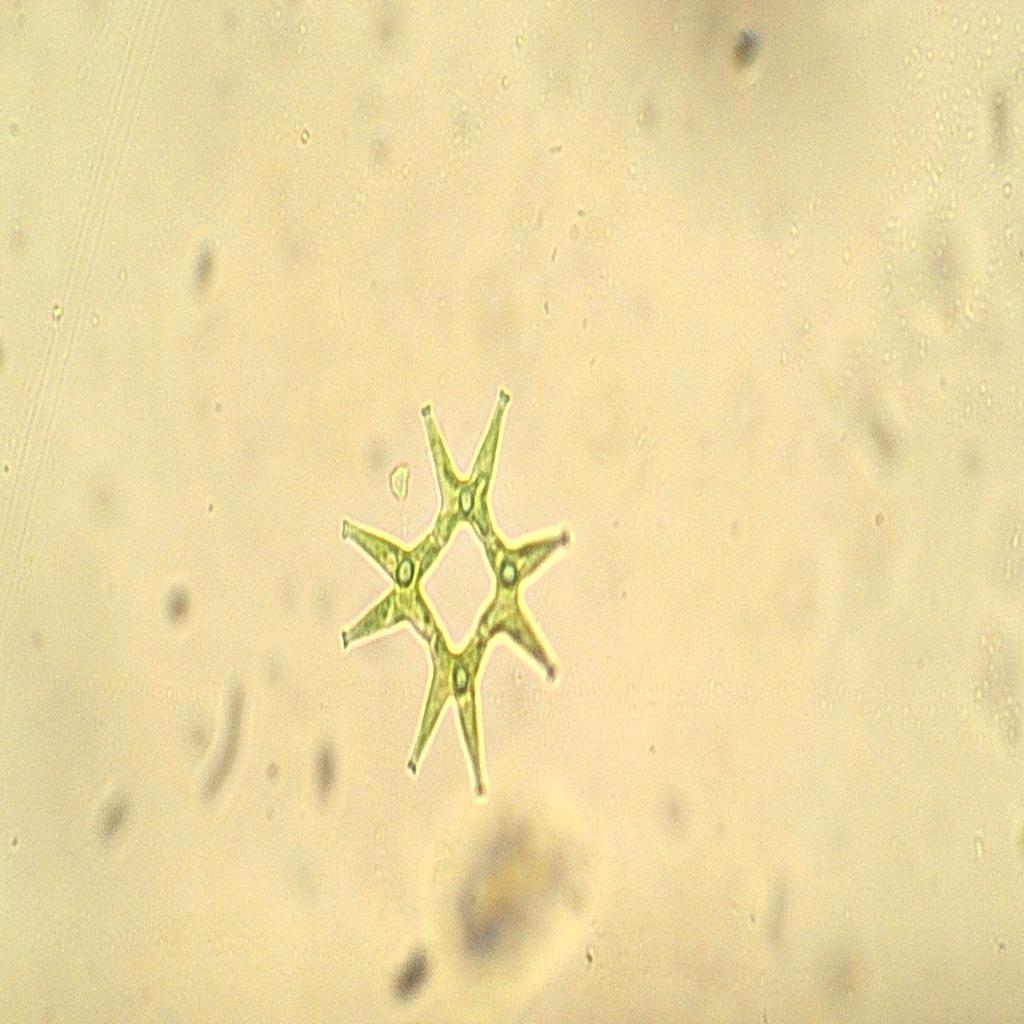Pediastrum_CO: (336, 371, 584, 813)
